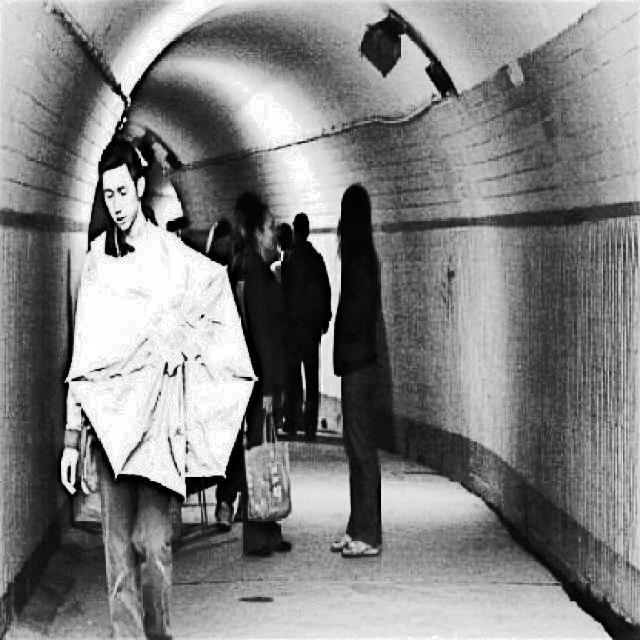Person: (58, 138, 180, 640), (330, 179, 390, 558)
